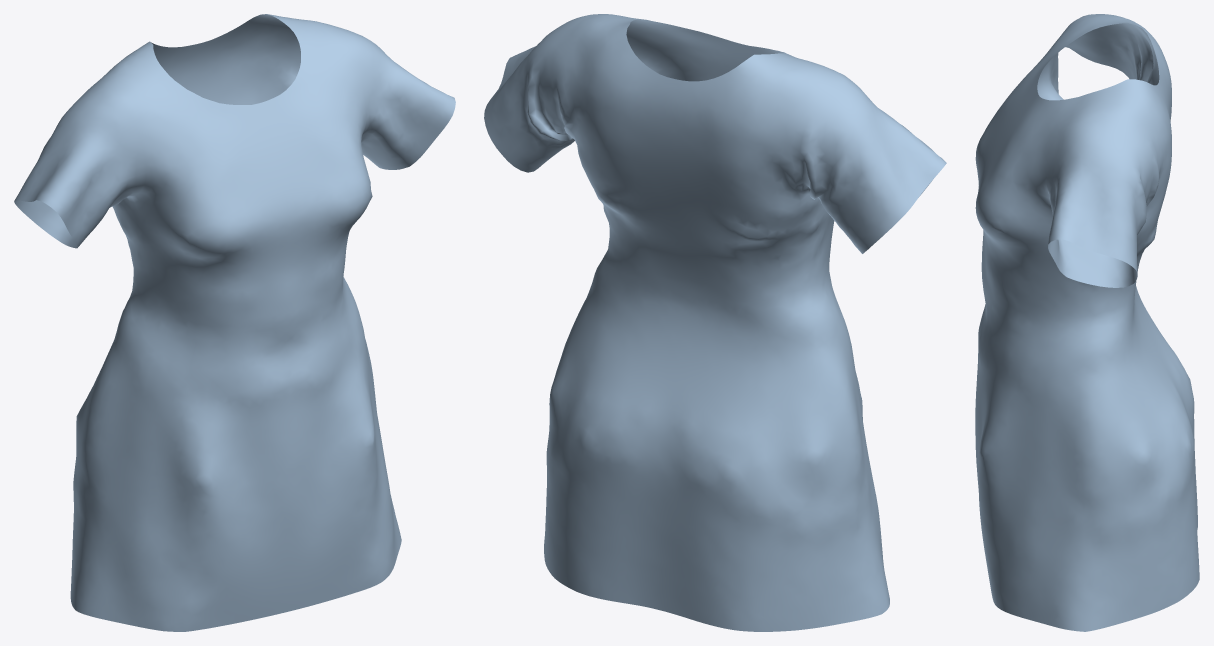
File: dress_L.glb
The picture shows the model from 3 angles, left to right: view 1: azimuth 30°, elevation 25°; view 2: azimuth 150°, elevation 25°; view 3: azimuth 270°, elevation 25°; orthographic projection. The views are drawn at different scales.
Visible parts, largest first — view 1: geometry_0; view 2: geometry_0; view 3: geometry_0.
Part boxes in pixels (x1=…): geometry_0: x1=14, y1=14, x2=455, y2=631; geometry_0: x1=484, y1=14, x2=946, y2=631; geometry_0: x1=975, y1=14, x2=1199, y2=631.
Size of the model in its own units: 0.603 by 0.7365 by 0.2933.
